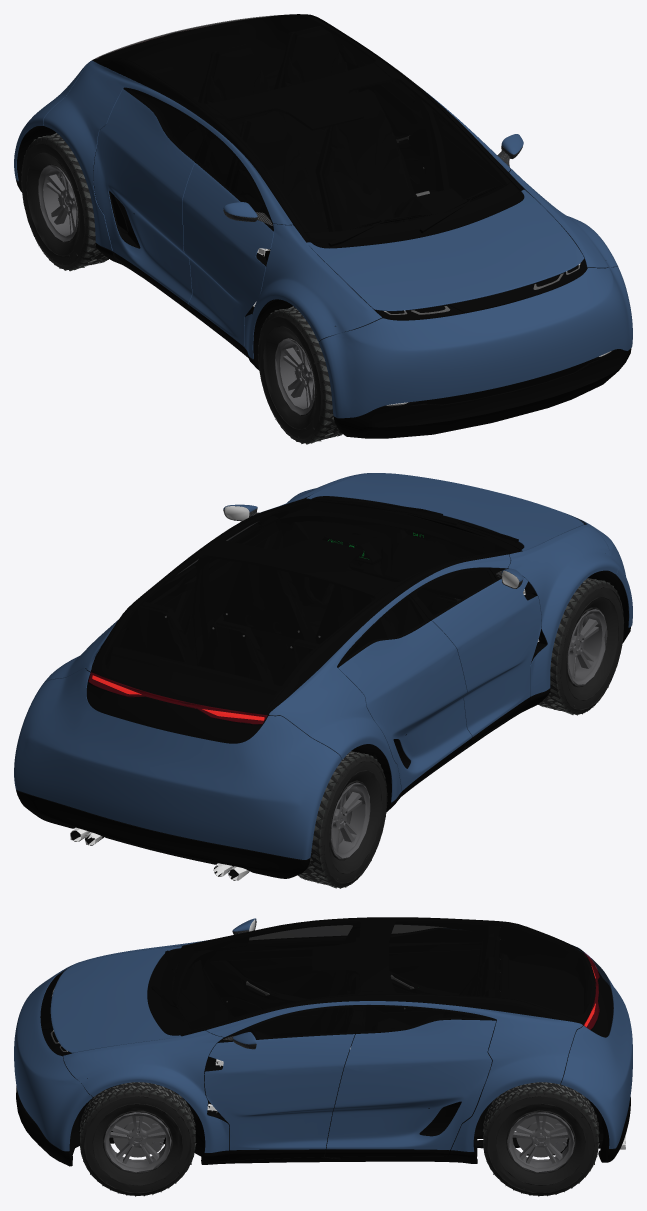
File: concept-crossover.glb
3 renders of one model, top to bottom at view 1: azimuth 30°, elevation 25°; view 2: azimuth 150°, elevation 25°; view 3: azimuth 270°, elevation 25°, orthographic. The views are drawn at different scales.
Parts seen in each view (by area): view 1: Body, wheel-front-right-mesh, wheel-rear-right-mesh; view 2: Body, wheel-rear-right-mesh, wheel-front-right-mesh; view 3: Body, wheel-rear-left-mesh, wheel-front-left-mesh.
Part boxes in pixels (x1=…): Body: x1=14, y1=14, x2=632, y2=438; wheel-front-right-mesh: x1=258, y1=306, x2=342, y2=444; wheel-rear-right-mesh: x1=21, y1=133, x2=108, y2=271; Body: x1=14, y1=473, x2=632, y2=880; wheel-rear-right-mesh: x1=298, y1=751, x2=387, y2=888; wheel-front-right-mesh: x1=538, y1=578, x2=624, y2=715; Body: x1=14, y1=917, x2=632, y2=1166; wheel-rear-left-mesh: x1=482, y1=1082, x2=599, y2=1196; wheel-front-left-mesh: x1=79, y1=1082, x2=196, y2=1196.
Size of the model in its own units: 1.35 by 0.903 by 2.8.
Materials: 18 (2 with a texture image).
